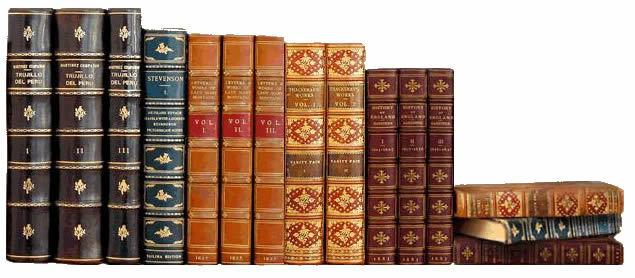book: (147, 33, 183, 261), (64, 19, 98, 259), (330, 50, 363, 262), (111, 15, 137, 260), (19, 13, 45, 256), (291, 48, 320, 261), (259, 41, 282, 263), (428, 71, 452, 265), (370, 74, 394, 264), (197, 41, 216, 260), (228, 41, 246, 263), (403, 72, 420, 266), (462, 245, 619, 263), (463, 193, 618, 210), (509, 219, 618, 237)
